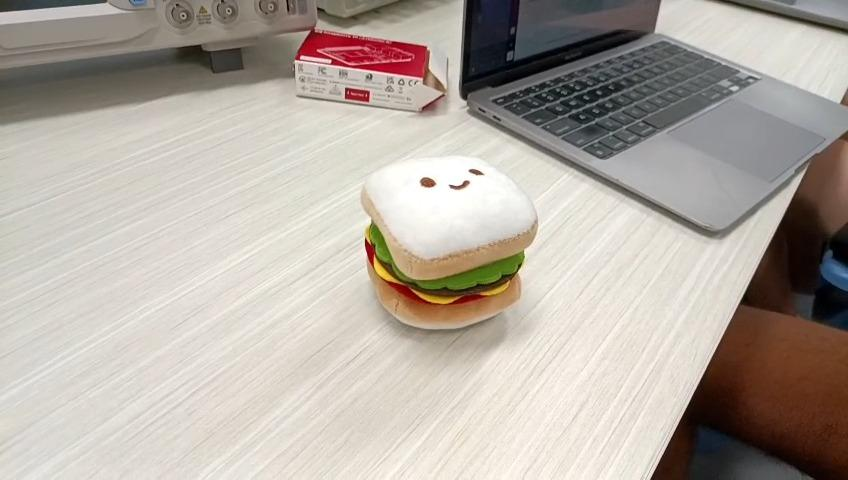objects: (359, 152, 540, 336)
